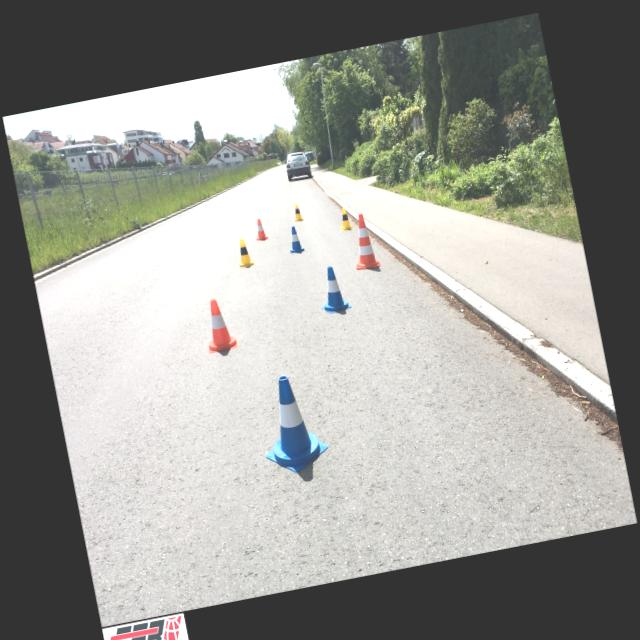blue_cone: (252, 371, 332, 476), (314, 264, 352, 315), (284, 224, 306, 253)
large_orange_cone: (347, 212, 381, 270)
orange_cone: (199, 296, 238, 354), (252, 218, 268, 241)
yellow_cone: (232, 236, 258, 268), (337, 207, 353, 231), (290, 203, 305, 222)
